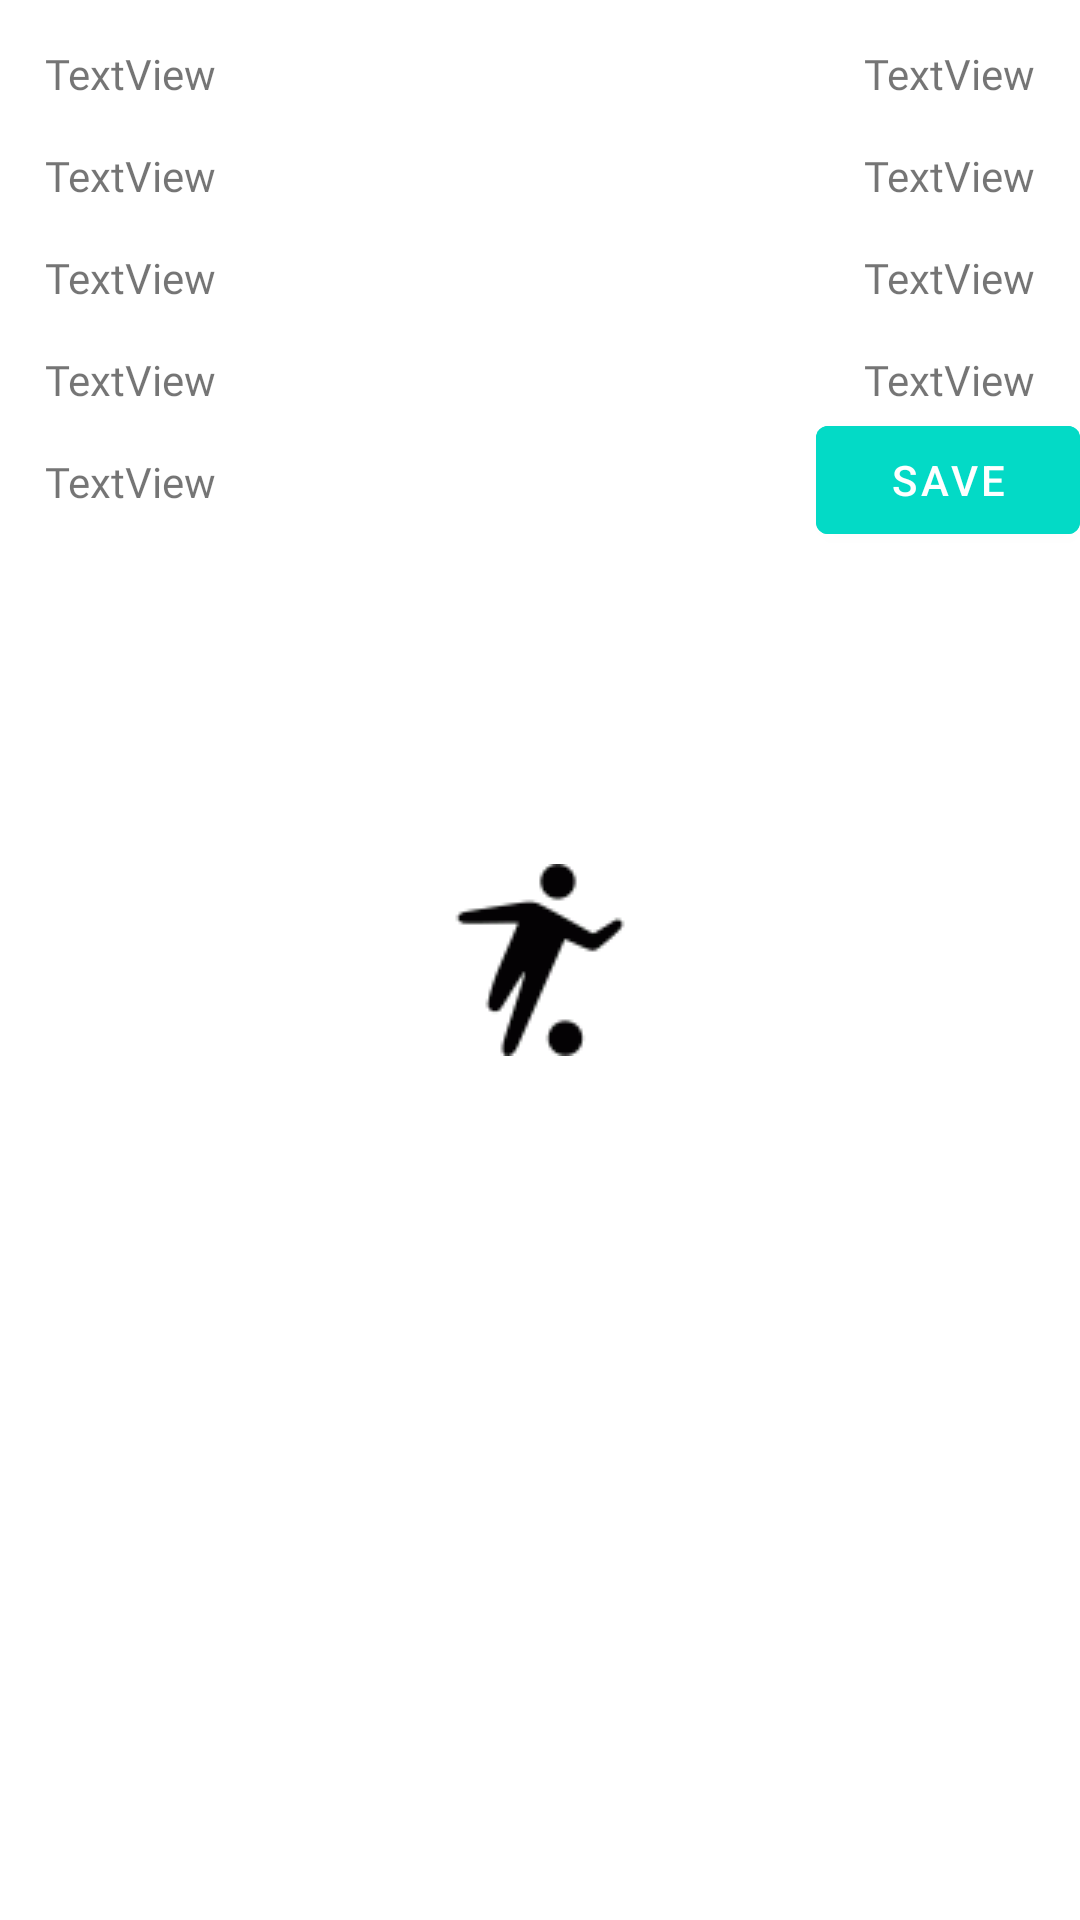

Screen size 1080px×1920px. Icon name, then its center in pixels as (x=x, y=y):
blackfootball: (x=540, y=960)
